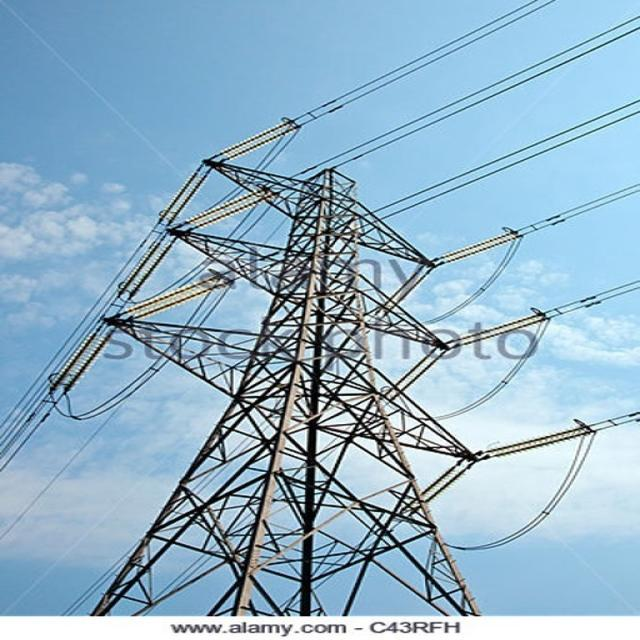non-critical vegetation: (59, 139, 569, 608)
